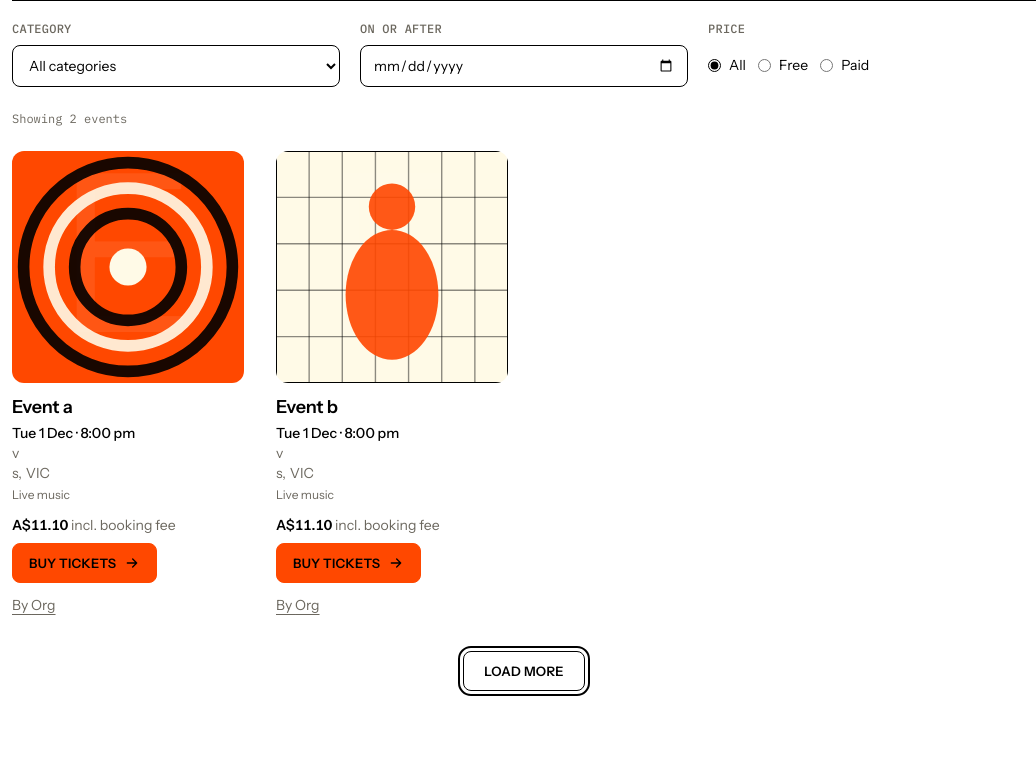
Scenario: LiveEventFeed — announcing results and keeping focus (WCAG 4.1.3, 2.4.3) › when the last page takes Load more away, focus goes to the first new event, not the page
Click the button "Load more" at [524, 671], box x1=463 y1=651 x2=585 y2=691
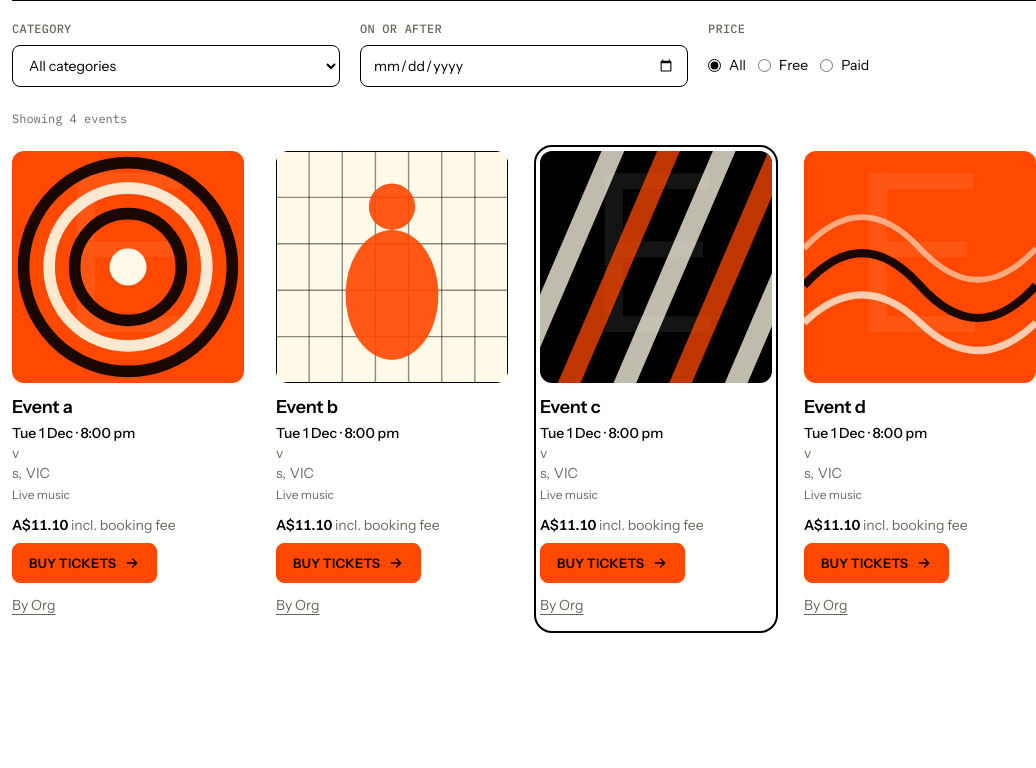
Expected: the button "Load more" is gone
